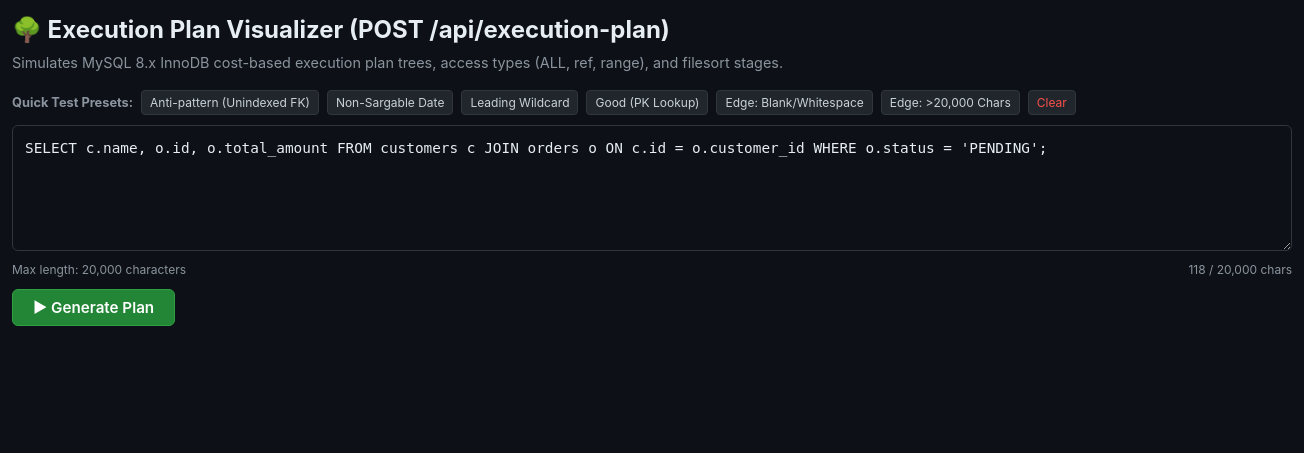
Test: ExecutionPlanPage Component › handles 500 Server Error cleanly
The image size is (1304, 453).
Click the button "▶ Generate Plan" at [94, 308], box top-left (12, 289), bottom-right (175, 326)
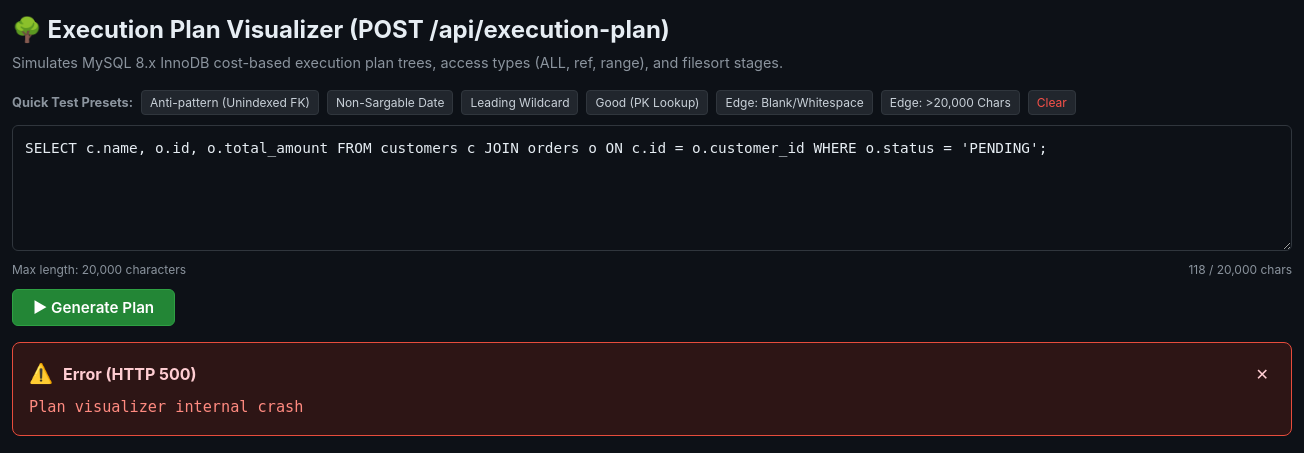
Now the text "Plan visualizer internal crash" is shown, box top-left (29, 398), bottom-right (303, 416)
Now the text "Error (HTTP 500)" is shown, box top-left (63, 362), bottom-right (197, 386)
